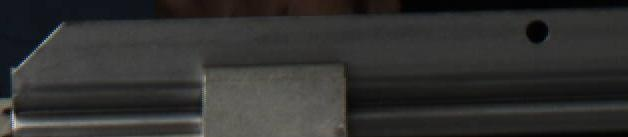cut: (6, 13, 197, 137)
holes: (523, 18, 550, 44)
